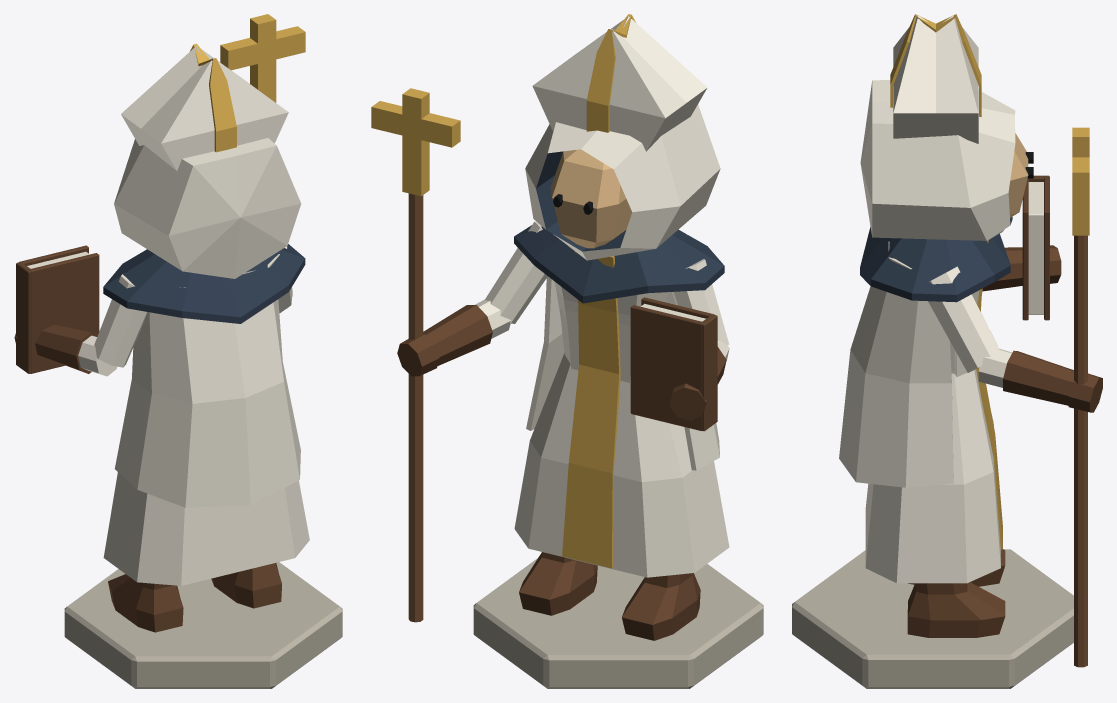
The model's file is human_cleric_t4.glb.
3 views of the same model, side by side, from view 1: azimuth 30°, elevation 25°; view 2: azimuth 150°, elevation 25°; view 3: azimuth 270°, elevation 25° (orthographic). The views are drawn at different scales.
Parts seen in each view (by area): view 1: Caster_Short_Back_Cape, Foundation_Hexagonal_Stone, Caster_Open_Low_Cowl, Caster_Continuous_Long_Robe, Cleric_Plain_Deep_Mitre_Two_Front_Back_Peaks, Plain_Caster_Shoulder_Mantle, Cleric_Devotional_Book_Rear_Leather_Cover, Cleric_Exactly_One_Plain_Gold_Latin_Cross, Boot_-1, left_upper_sleeve, Boot_1, Cleric_One_Connected_Front_Back_Mitre_Ribbon (+3 smaller); view 2: Caster_Continuous_Long_Robe, Foundation_Hexagonal_Stone, Caster_Open_Low_Cowl, Cleric_One_Broad_Front_Stole, Cleric_Plain_Deep_Mitre_Two_Front_Back_Peaks, Plain_Caster_Shoulder_Mantle, Cleric_Devotional_Book_Front_Leather_Cover, Cleric_One_Plain_Wooden_Cross_Staff_Shaft, Angular_Face, Cleric_Exactly_One_Plain_Gold_Latin_Cross, Boot_-1, Caster_Short_Back_Cape (+10 smaller); view 3: Foundation_Hexagonal_Stone, Caster_Short_Back_Cape, Caster_Open_Low_Cowl, Caster_Continuous_Long_Robe, Cleric_Plain_Deep_Mitre_Two_Front_Back_Peaks, Plain_Caster_Shoulder_Mantle, Cleric_One_Plain_Wooden_Cross_Staff_Shaft, Boot_1, right_upper_sleeve, right_bracer, Cleric_Devotional_Book_One_Plain_Page_Block, Cleric_Exactly_One_Plain_Gold_Latin_Cross (+8 smaller).
Boxes of the visible parts, bbox=[...] form: Caster_Short_Back_Cape: bbox=[115, 299, 300, 507]; Foundation_Hexagonal_Stone: bbox=[64, 562, 342, 688]; Caster_Open_Low_Cowl: bbox=[114, 138, 301, 278]; Caster_Continuous_Long_Robe: bbox=[103, 254, 309, 585]; Cleric_Plain_Deep_Mitre_Two_Front_Back_Peaks: bbox=[121, 45, 288, 170]; Plain_Caster_Shoulder_Mantle: bbox=[103, 244, 305, 323]; Cleric_Devotional_Book_Rear_Leather_Cover: bbox=[29, 253, 99, 373]; Cleric_Exactly_One_Plain_Gold_Latin_Cross: bbox=[220, 14, 305, 102]; Boot_-1: bbox=[108, 574, 183, 632]; left_upper_sleeve: bbox=[94, 274, 147, 367]; Boot_1: bbox=[211, 563, 281, 608]; Cleric_One_Connected_Front_Back_Mitre_Ribbon: bbox=[190, 43, 236, 152]; Caster_Continuous_Long_Robe: bbox=[514, 281, 729, 577]; Foundation_Hexagonal_Stone: bbox=[473, 558, 763, 688]; Caster_Open_Low_Cowl: bbox=[525, 104, 720, 260]; Cleric_One_Broad_Front_Stole: bbox=[562, 251, 620, 568]; Cleric_Plain_Deep_Mitre_Two_Front_Back_Peaks: bbox=[532, 16, 707, 151]; Plain_Caster_Shoulder_Mantle: bbox=[514, 225, 724, 303]; Cleric_Devotional_Book_Front_Leather_Cover: bbox=[630, 305, 703, 430]; Cleric_One_Plain_Wooden_Cross_Staff_Shaft: bbox=[408, 193, 423, 622]; Angular_Face: bbox=[550, 149, 632, 248]; Cleric_Exactly_One_Plain_Gold_Latin_Cross: bbox=[371, 88, 460, 196]; Boot_-1: bbox=[622, 573, 700, 640]; Caster_Short_Back_Cape: bbox=[526, 276, 719, 470]; Foundation_Hexagonal_Stone: bbox=[792, 549, 1073, 688]; Caster_Short_Back_Cape: bbox=[839, 286, 953, 487]; Caster_Open_Low_Cowl: bbox=[860, 80, 1015, 240]; Caster_Continuous_Long_Robe: bbox=[865, 241, 1000, 583]; Cleric_Plain_Deep_Mitre_Two_Front_Back_Peaks: bbox=[893, 15, 978, 143]; Plain_Caster_Shoulder_Mantle: bbox=[860, 227, 1010, 302]; Cleric_One_Plain_Wooden_Cross_Staff_Shaft: bbox=[1074, 235, 1087, 667]; Boot_1: bbox=[907, 582, 1005, 637]; right_upper_sleeve: bbox=[928, 266, 999, 372]; right_bracer: bbox=[1003, 350, 1073, 405]; Cleric_Devotional_Book_One_Plain_Page_Block: bbox=[1028, 182, 1043, 314]; Cleric_Exactly_One_Plain_Gold_Latin_Cross: bbox=[1072, 127, 1089, 235].
Bounding box in the file's own units: 1.16 × 2.17 × 0.983.
